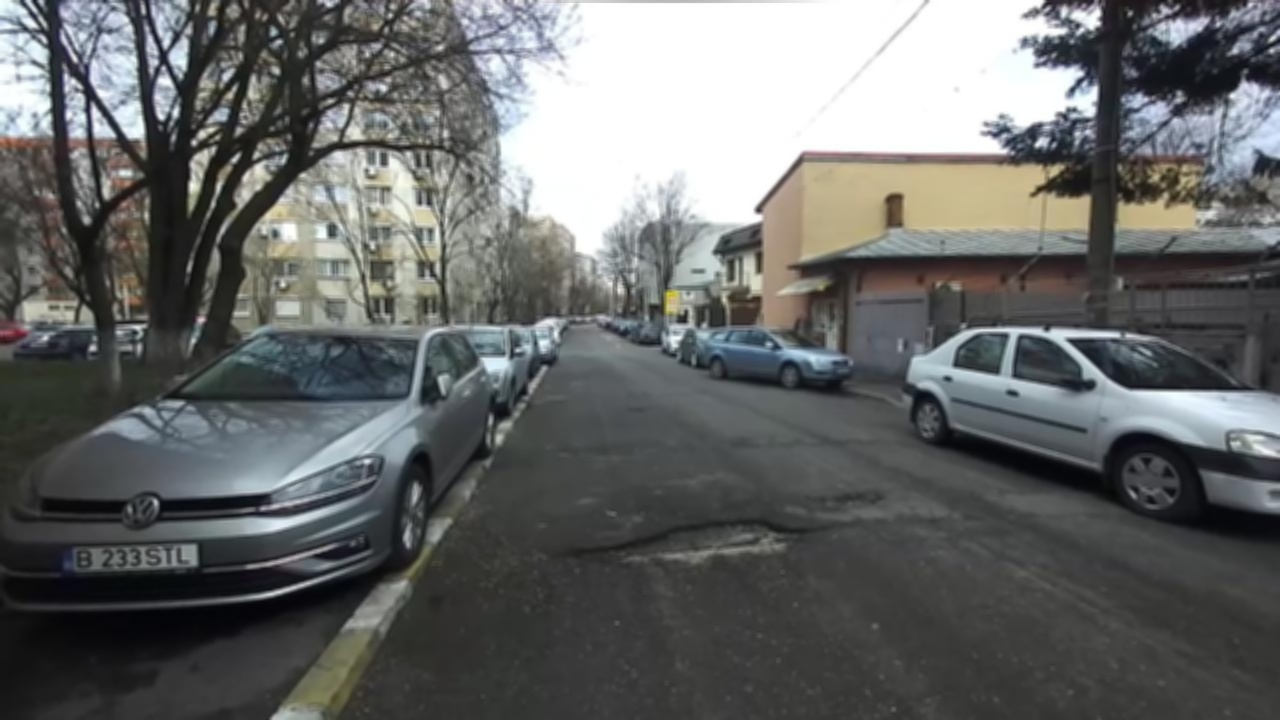pothole: (556, 513, 844, 574), (812, 483, 891, 505)
